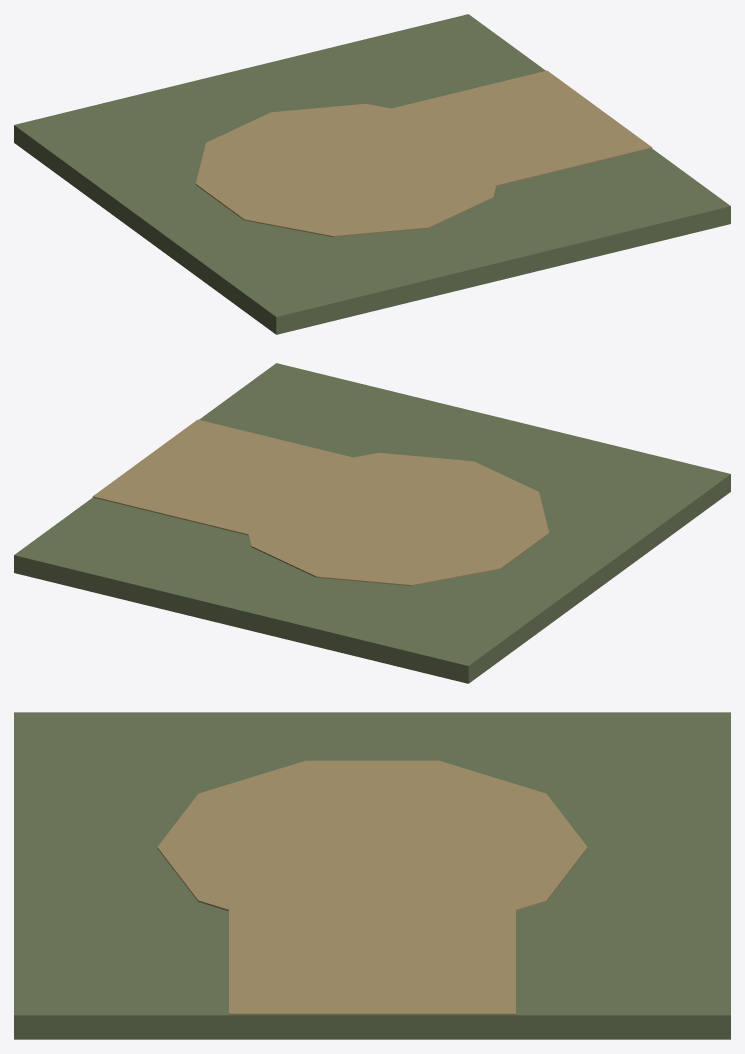
Rendered from terrain_tile_road_end.glb.
3 views of the same model, one above another, from view 1: azimuth 30°, elevation 25°; view 2: azimuth 150°, elevation 25°; view 3: azimuth 270°, elevation 25° (orthographic). The views are drawn at different scales.
Visible parts, largest first — view 1: terrain_tile_road_end; view 2: terrain_tile_road_end; view 3: terrain_tile_road_end.
Part boxes in pixels (x1,y1,x2,y2): terrain_tile_road_end: [14, 14, 730, 334]; terrain_tile_road_end: [14, 363, 730, 683]; terrain_tile_road_end: [14, 712, 730, 1039].
Size of the model in its own units: 8 by 0.32 by 8.
